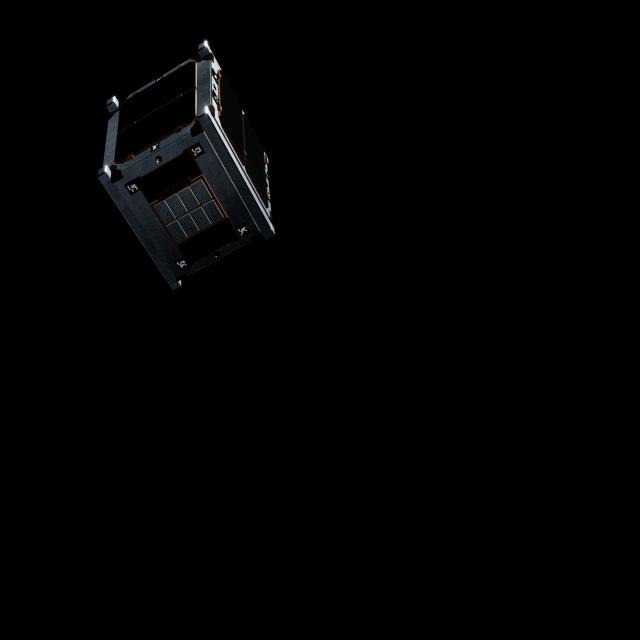medium_debris: (94, 30, 289, 306)
